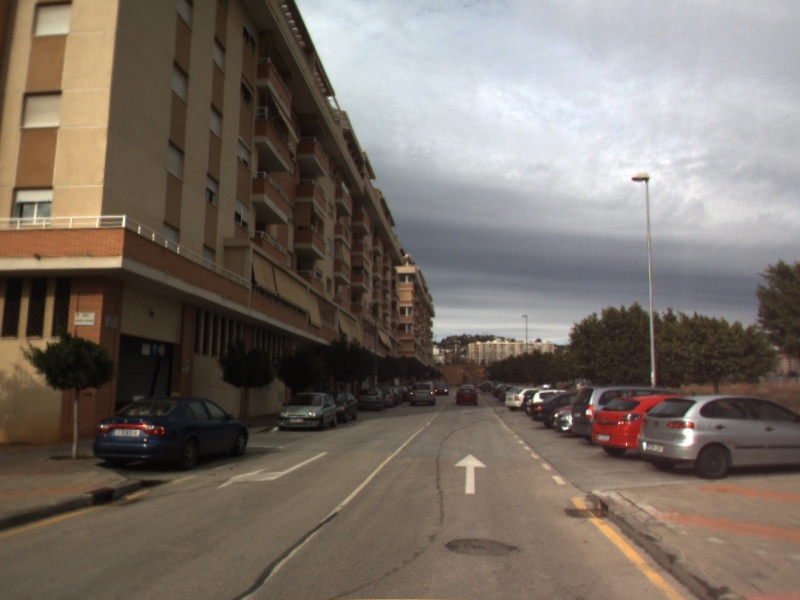STRAIGHT: (452, 451, 489, 496)
